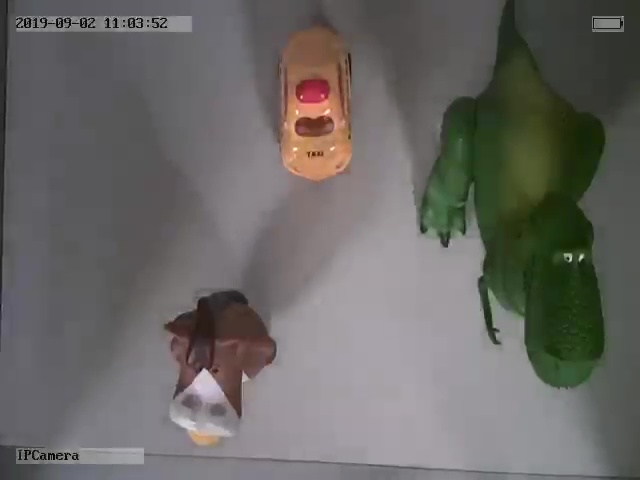car: (271, 21, 357, 180)
horse: (164, 288, 278, 447)
rex: (413, 16, 605, 388)
